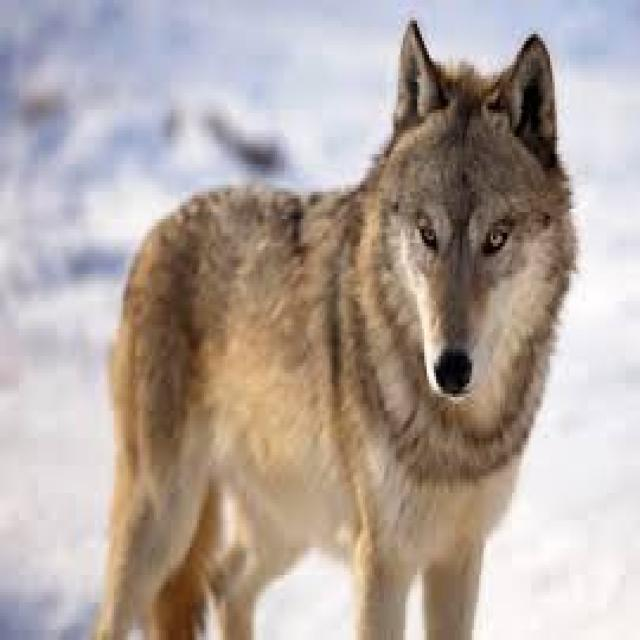Wolf: (81, 17, 578, 637)
